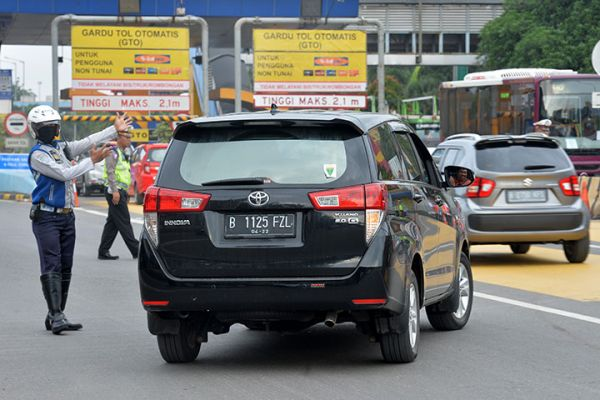plate: (226, 214, 296, 240), (505, 190, 545, 204)
